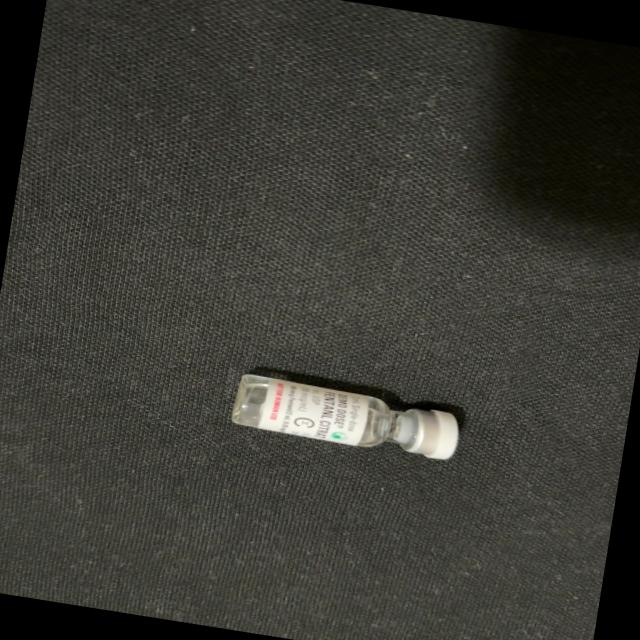fentanl_citrat: (233, 373, 461, 461)
